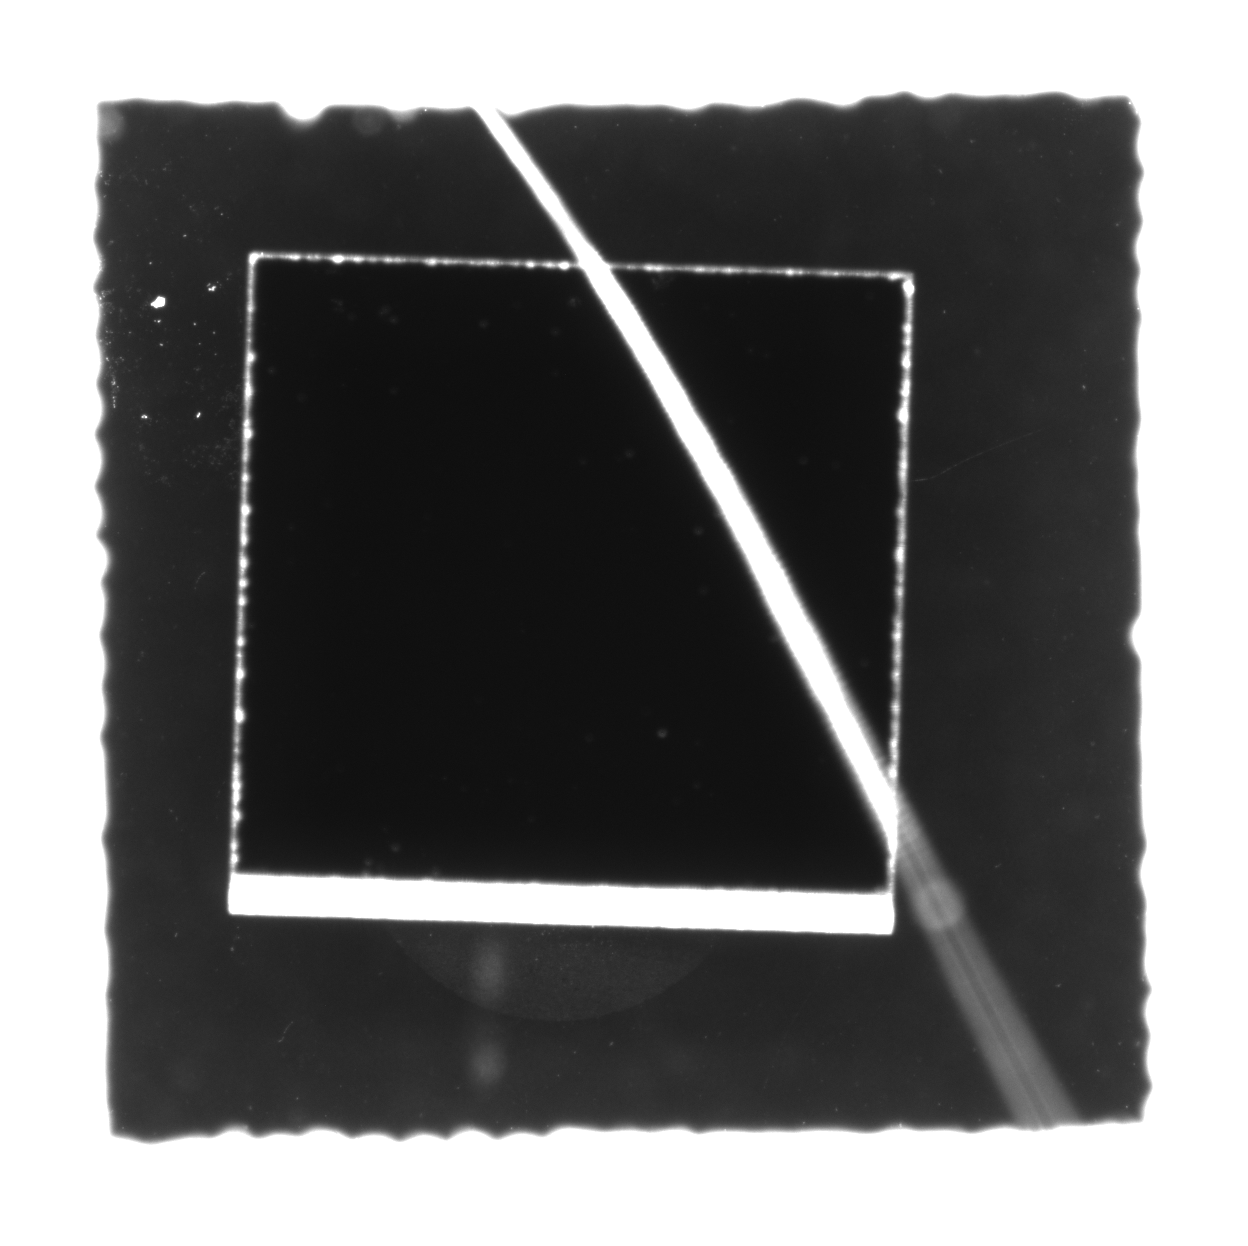dot: (146, 290, 175, 315)
edge_bottom: (219, 855, 910, 960)
light_scratch: (580, 253, 888, 796)
